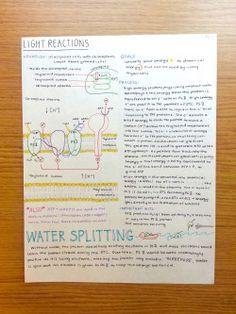page: (24, 38, 216, 282)
